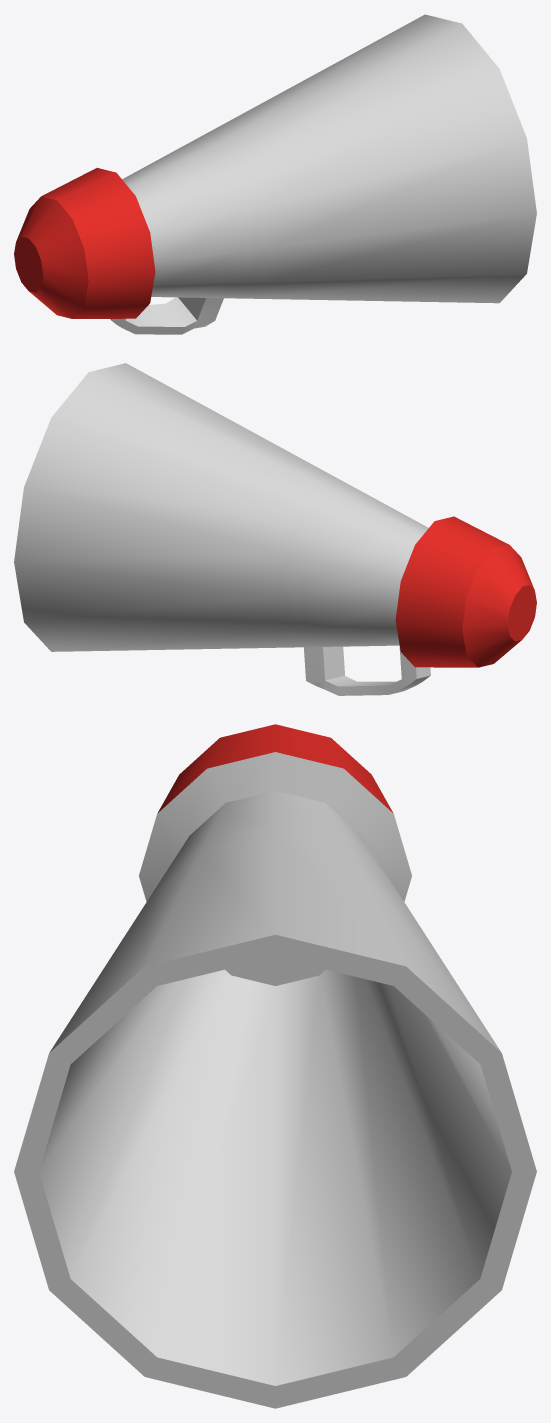
Rendered from horn.fbx.
3 renders of one model, top to bottom at view 1: azimuth 30°, elevation 25°; view 2: azimuth 150°, elevation 25°; view 3: azimuth 270°, elevation 25°, orthographic. The views are drawn at different scales.
Parts seen in each view (by area): view 1: Cylinder; view 2: Cylinder; view 3: Cylinder.
Part boxes in pixels (x1,y1,x2,y2): Cylinder: [14, 14, 536, 334]; Cylinder: [14, 363, 536, 695]; Cylinder: [14, 724, 536, 1408].
Bounding box in the file's own units: 255 × 152 × 152.
